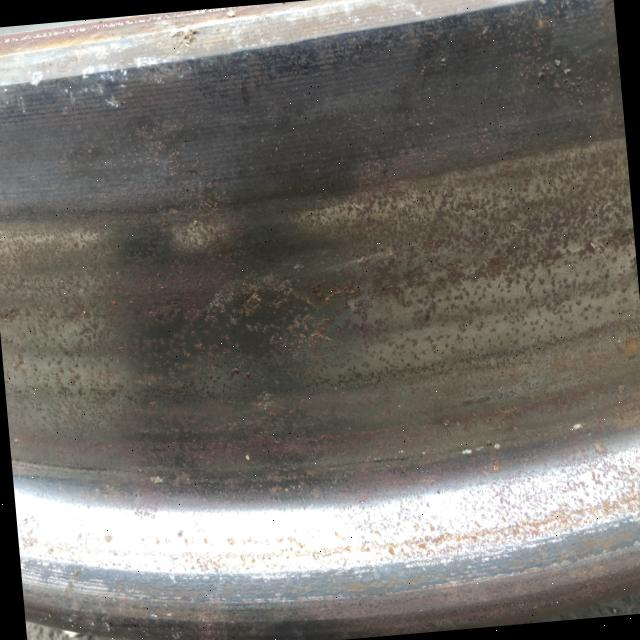Blue hole: (192, 219, 201, 229)
Contact_Fatigue_Cracks: (230, 276, 275, 323)
Peeling: (308, 272, 363, 308), (209, 362, 256, 390)
